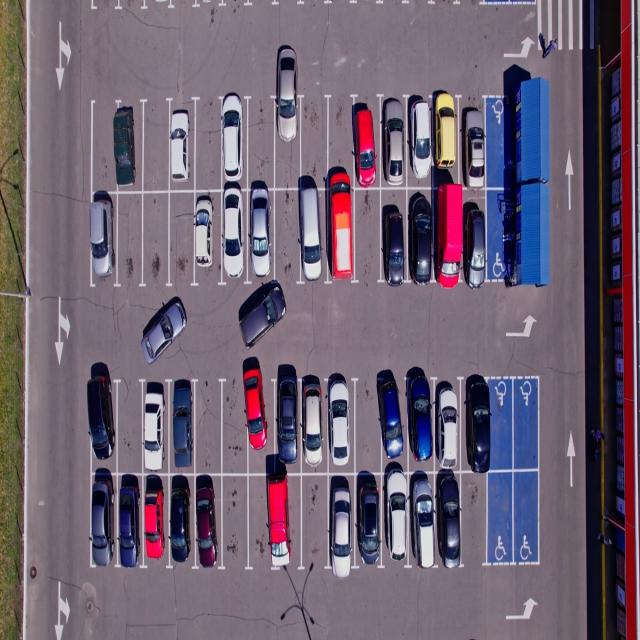space-empty: (298, 472, 332, 573), (141, 192, 172, 288), (170, 189, 200, 288), (141, 99, 172, 194), (193, 98, 224, 192), (116, 191, 146, 287), (194, 378, 224, 474), (246, 97, 277, 189), (352, 377, 382, 472), (115, 379, 145, 474), (220, 474, 249, 570), (351, 188, 381, 280), (220, 376, 248, 474), (272, 190, 302, 281), (513, 471, 543, 561), (328, 97, 357, 190), (462, 470, 490, 564), (514, 378, 542, 471), (486, 470, 514, 563), (299, 99, 326, 190), (489, 378, 514, 476), (248, 472, 273, 570), (90, 99, 117, 189), (485, 95, 506, 189)
space-occupied: (267, 470, 303, 572), (246, 373, 279, 473), (325, 374, 358, 470), (85, 374, 117, 472), (192, 476, 224, 572), (431, 185, 463, 281), (113, 99, 145, 194), (246, 188, 278, 282), (169, 377, 200, 473), (86, 192, 117, 288), (217, 188, 248, 284), (140, 381, 171, 476), (378, 473, 410, 565), (274, 376, 304, 474), (169, 98, 200, 192), (431, 376, 462, 470), (350, 471, 381, 565), (191, 190, 222, 284), (296, 188, 327, 281), (326, 474, 356, 570), (378, 377, 407, 472), (141, 472, 170, 566), (407, 186, 436, 280), (273, 95, 302, 188), (327, 187, 356, 280), (406, 374, 434, 470), (353, 96, 382, 188), (378, 188, 407, 280), (298, 377, 326, 472), (220, 98, 248, 192), (432, 470, 460, 563), (170, 472, 197, 568), (435, 94, 463, 186), (116, 472, 144, 564), (379, 97, 407, 189), (465, 379, 492, 473), (409, 470, 436, 563), (408, 95, 436, 184), (88, 476, 116, 562), (461, 184, 485, 284), (464, 97, 488, 187)
